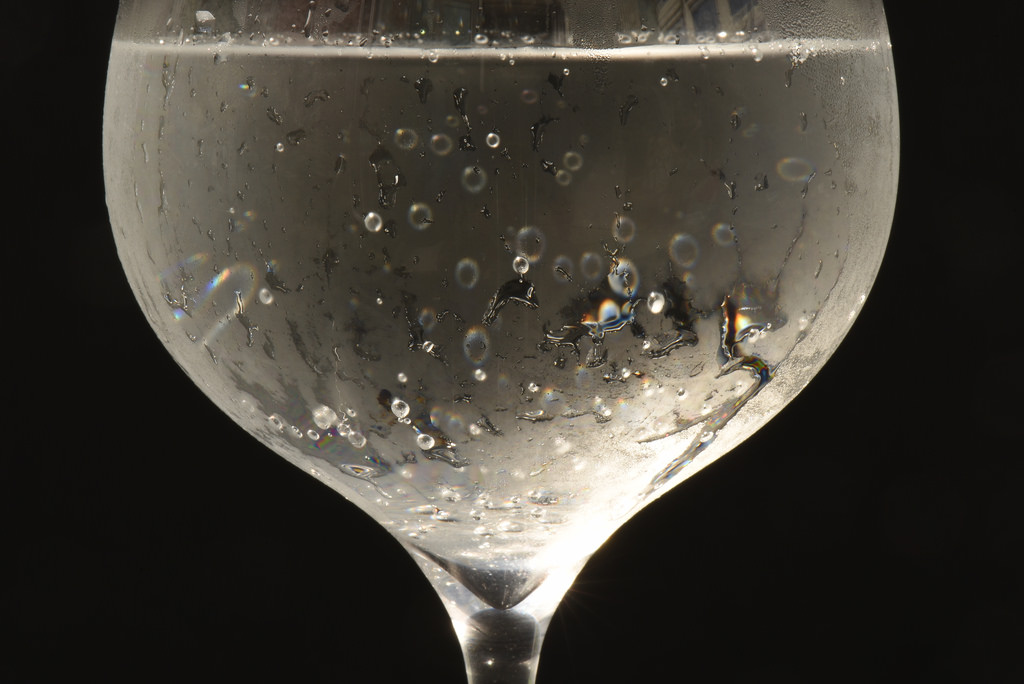glass of water: (95, 13, 902, 671)
